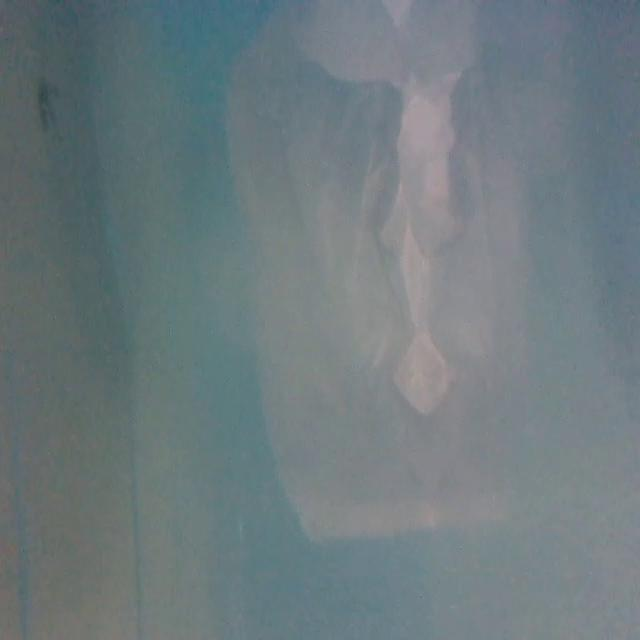plastic bags: (240, 0, 492, 540)
